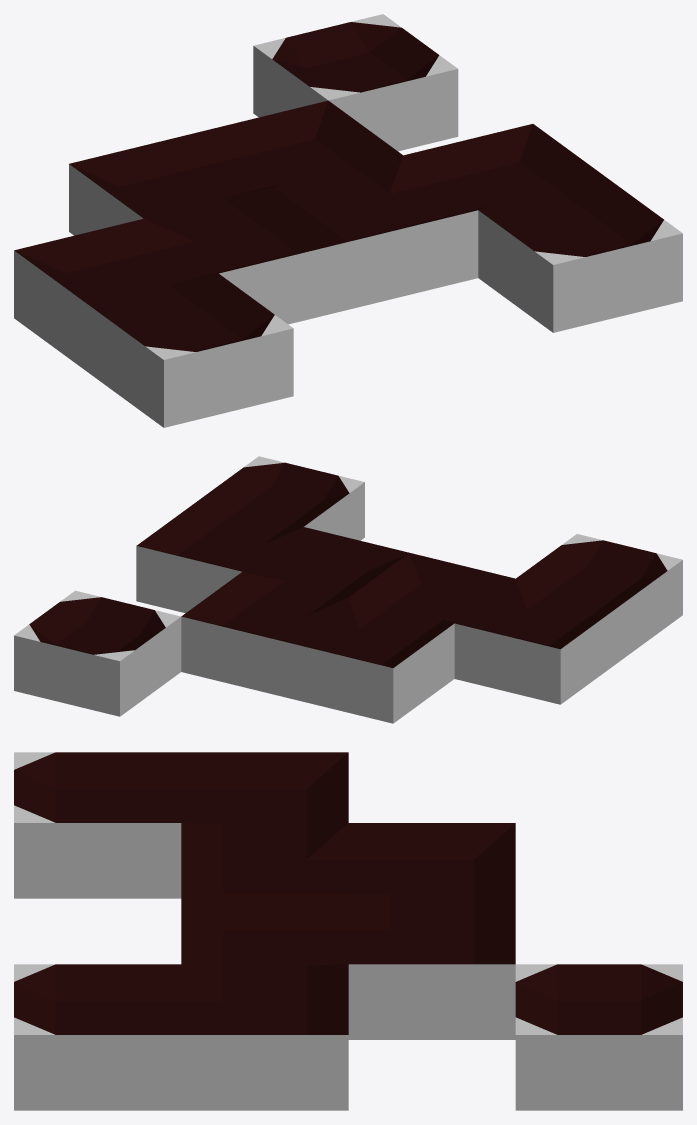
Rendered from 39s_path.obj.
3 renders of one model, top to bottom at view 1: azimuth 30°, elevation 25°; view 2: azimuth 150°, elevation 25°; view 3: azimuth 270°, elevation 25°, orthographic. The views are drawn at different scales.
Parts seen in each view (by area): view 1: ending.0.0_ending.153, ending.3.0_ending.154, hole.3.3_Cube.078, corner.2.1_corner.387, corner.0.1_corner.384, corner.1.1_corner.385, corner.1.2_corner.386, corner.2.2_corner.388, corner.3.1_corner.389; view 2: hole.3.3_Cube.078, corner.1.2_corner.386, corner.0.1_corner.384, corner.2.2_corner.388, ending.0.0_ending.153, corner.3.1_corner.389, ending.3.0_ending.154, corner.1.1_corner.385, corner.2.1_corner.387; view 3: ending.0.0_ending.153, ending.3.0_ending.154, hole.3.3_Cube.078, corner.3.1_corner.389, corner.2.2_corner.388, corner.2.1_corner.387, corner.0.1_corner.384, corner.1.2_corner.386, corner.1.1_corner.385.
Part boxes in pixels (bbox=[...]): ending.0.0_ending.153: bbox=[89, 273, 293, 427]; ending.3.0_ending.154: bbox=[478, 179, 682, 332]; hole.3.3_Cube.078: bbox=[253, 14, 458, 151]; corner.2.1_corner.387: bbox=[274, 155, 478, 309]; corner.0.1_corner.384: bbox=[14, 218, 217, 372]; corner.1.1_corner.385: bbox=[144, 187, 348, 324]; corner.1.2_corner.386: bbox=[69, 132, 272, 235]; corner.2.2_corner.388: bbox=[198, 100, 402, 195]; corner.3.1_corner.389: bbox=[403, 124, 607, 219]; hole.3.3_Cube.078: bbox=[14, 590, 181, 716]; corner.1.2_corner.386: bbox=[287, 598, 454, 723]; corner.0.1_corner.384: bbox=[454, 579, 621, 704]; corner.2.2_corner.388: bbox=[181, 572, 347, 697]; ending.0.0_ending.153: bbox=[516, 534, 682, 659]; corner.3.1_corner.389: bbox=[136, 501, 303, 613]; ending.3.0_ending.154: bbox=[198, 456, 364, 540]; corner.1.1_corner.385: bbox=[348, 553, 515, 630]; corner.2.1_corner.387: bbox=[243, 527, 409, 604]; ending.0.0_ending.153: bbox=[14, 752, 181, 898]; ending.3.0_ending.154: bbox=[14, 964, 181, 1110]; hole.3.3_Cube.078: bbox=[515, 964, 682, 1110]; corner.3.1_corner.389: bbox=[181, 964, 348, 1110]; corner.2.2_corner.388: bbox=[348, 894, 515, 1039]; corner.2.1_corner.387: bbox=[181, 893, 348, 983]; corner.0.1_corner.384: bbox=[181, 752, 348, 841]; corner.1.2_corner.386: bbox=[348, 823, 515, 912]; corner.1.1_corner.385: bbox=[181, 823, 348, 893].
Size of the model in its own units: 8 by 1 by 8.
